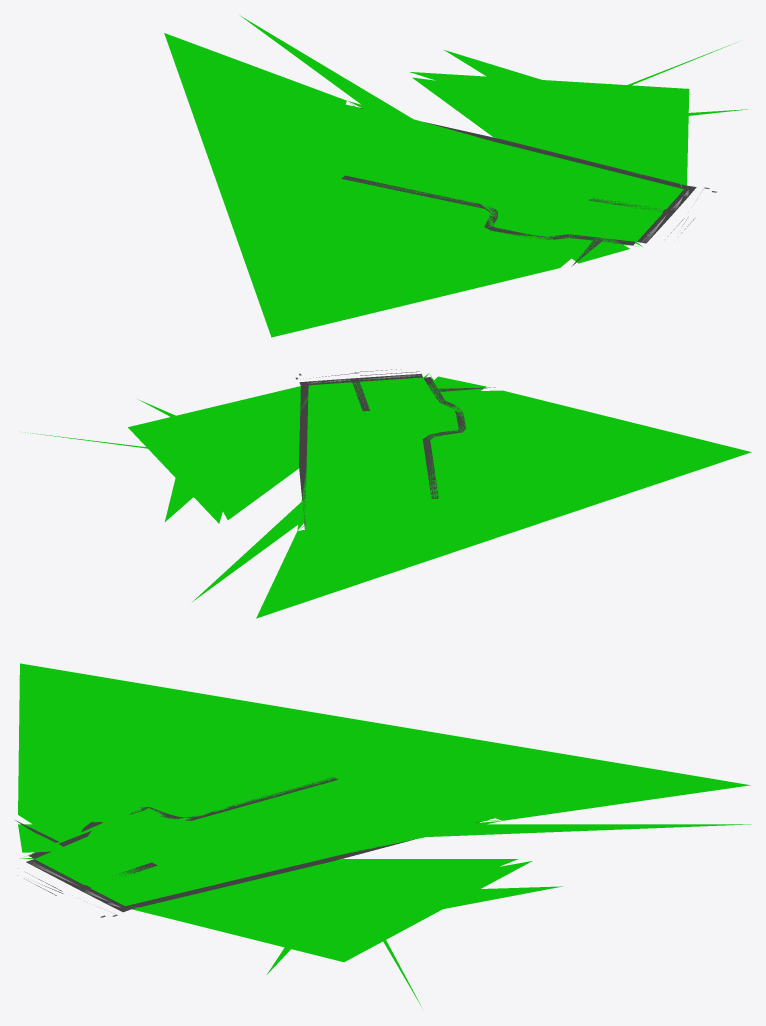
3 views of the same model, one above another, from view 1: azimuth 30°, elevation 25°; view 2: azimuth 150°, elevation 25°; view 3: azimuth 270°, elevation 25° (orthographic). The views are drawn at different scales.
Size of the model in its own units: 303 by 0.201 by 271.
